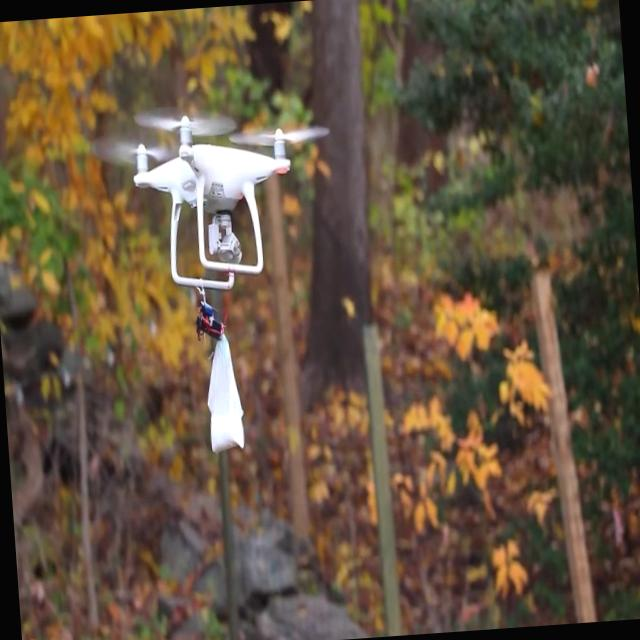drone: (112, 98, 342, 301)
